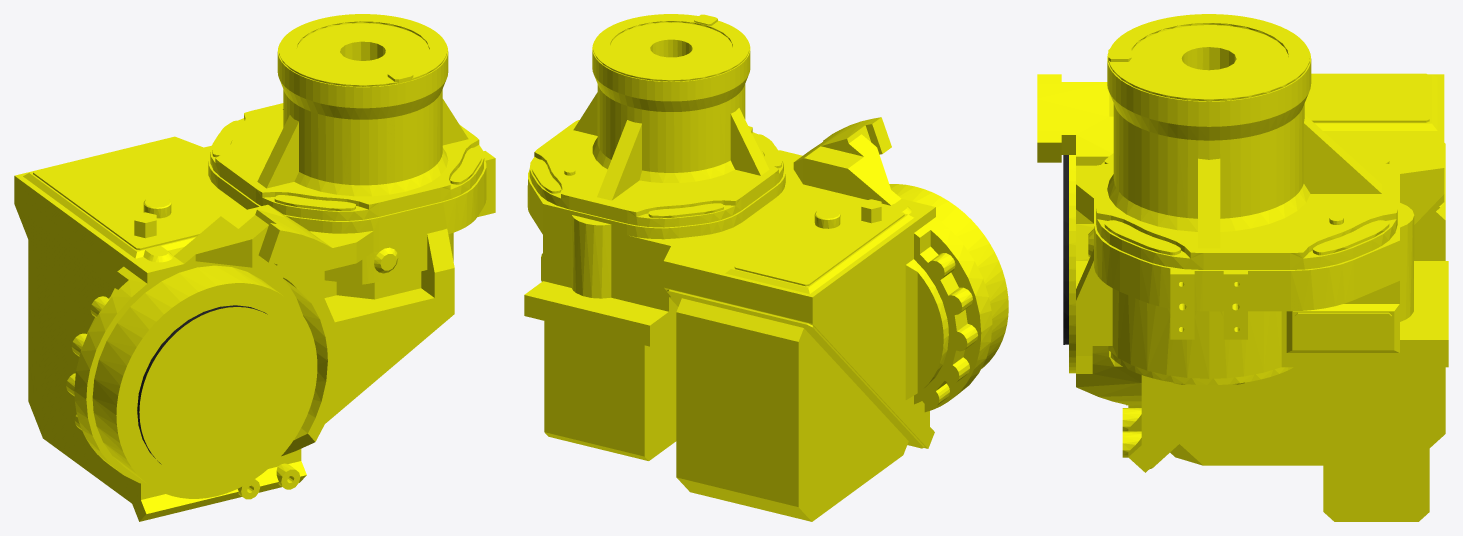
3 views of the same model, side by side, from view 1: azimuth 30°, elevation 25°; view 2: azimuth 150°, elevation 25°; view 3: azimuth 270°, elevation 25° (orthographic). The views are drawn at different scales.
Parts seen in each view (by area): view 1: node; view 2: node; view 3: node.
Boxes of the visible parts, x1,y1,x2,y2 form: node: (14, 14, 495, 521); node: (524, 14, 1008, 521); node: (1037, 14, 1448, 521).
Size of the model in its own units: 533 by 471 by 371.
